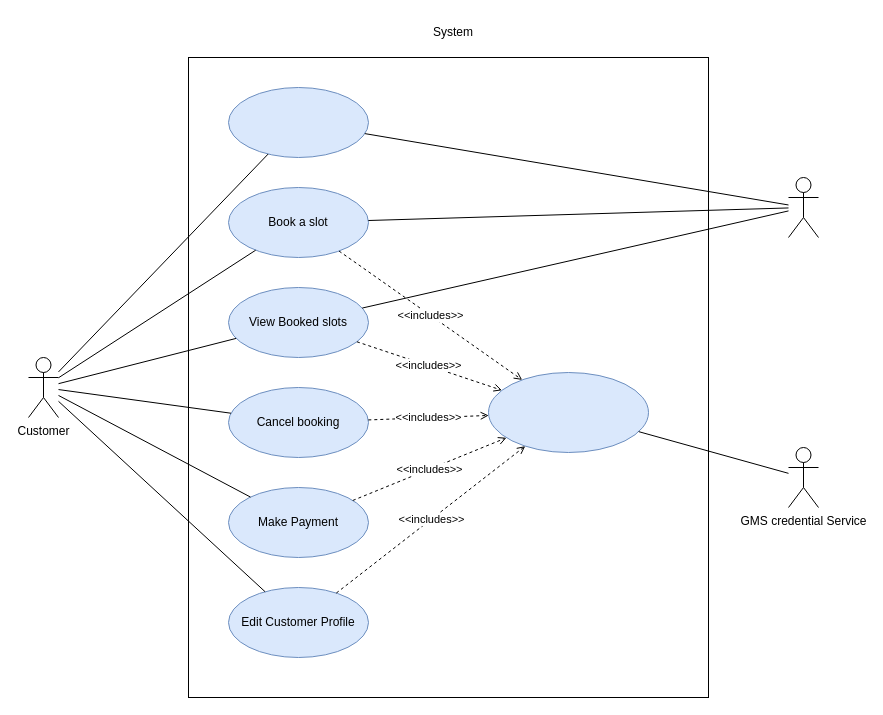
Image size: 883x715. Some labels were removed from this diagram. Each missing label, with the centre of its shape:
Customer Authentication and Authorization: [568,412]
GMS Gym Service: [803,207]
Search Gym: [298,122]
